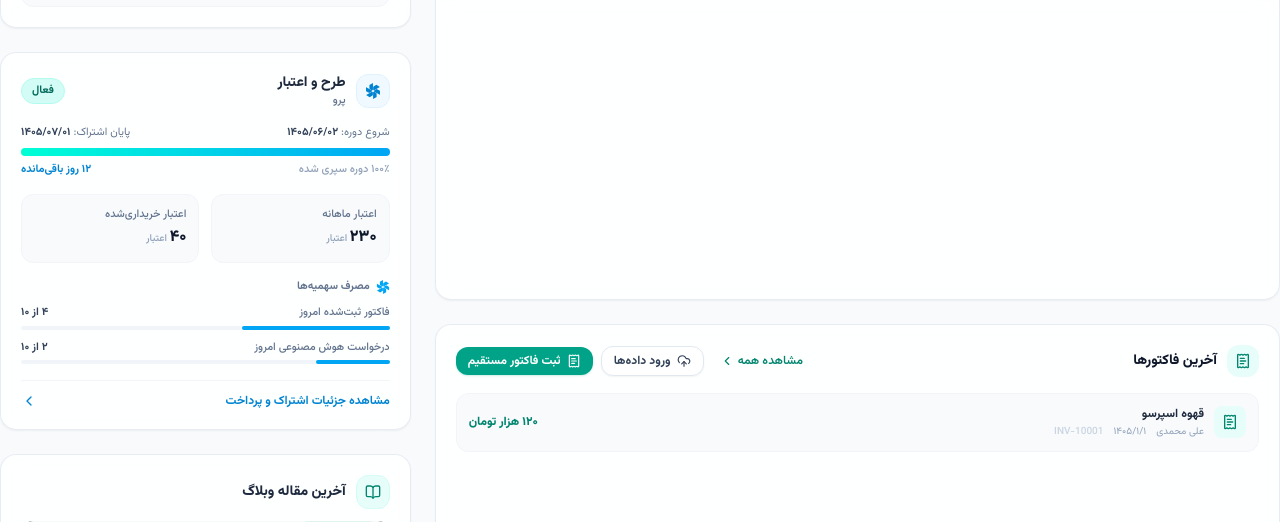
Test case: [page] Dashboard Pages › opens InvoiceModal when clicking "ثبت فاکتور مستقیم"
The image size is (1280, 522).
(page scrolled)
Expected: the heading "آخرین فاکتورها" is shown, x1=1133 y1=351 x2=1217 y2=371
Click the button "ثبت فاکتور مستقیم" at (524,361), box x1=456 y1=347 x2=593 y2=375
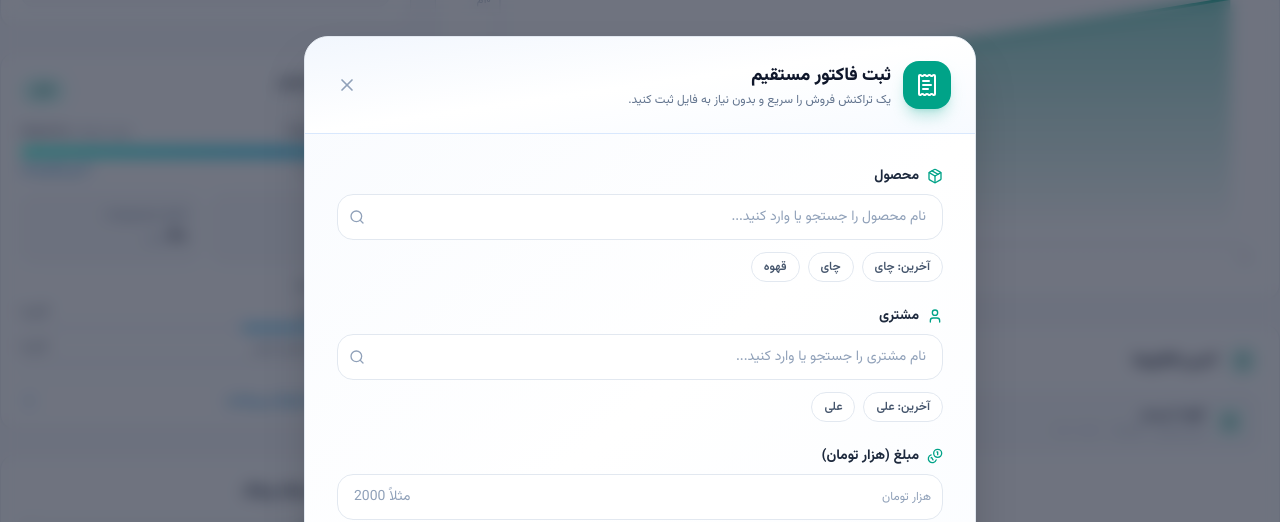
Result: the text "یک تراکنش فروش را سریع و بدون نیاز به فایل ثبت کنید." is shown at x1=628 y1=92 x2=891 y2=108
Result: the text "محصول" is shown at x1=874 y1=166 x2=919 y2=186
